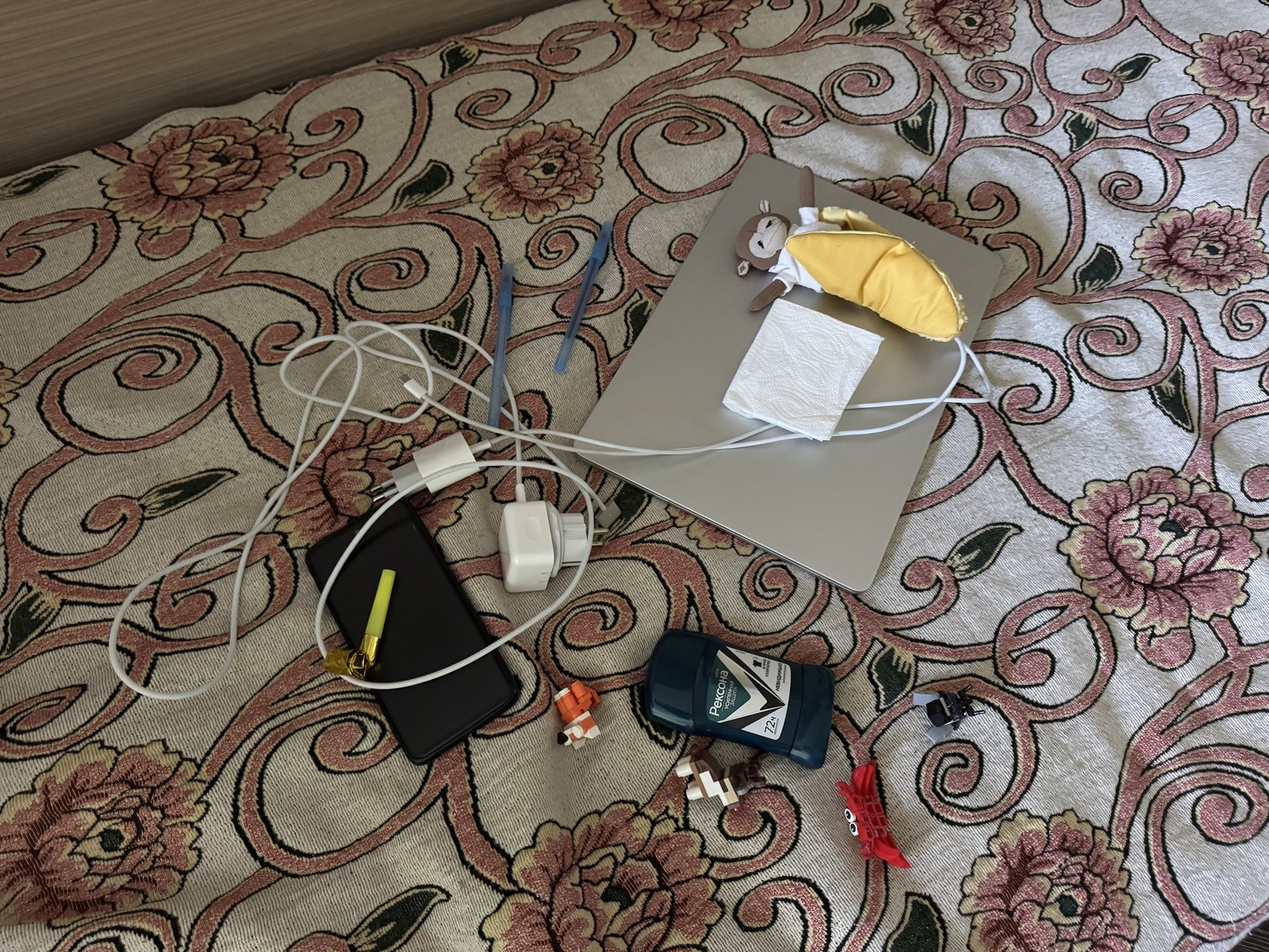cell phone: (304, 497, 521, 764)
laptop: (572, 152, 1004, 593)
